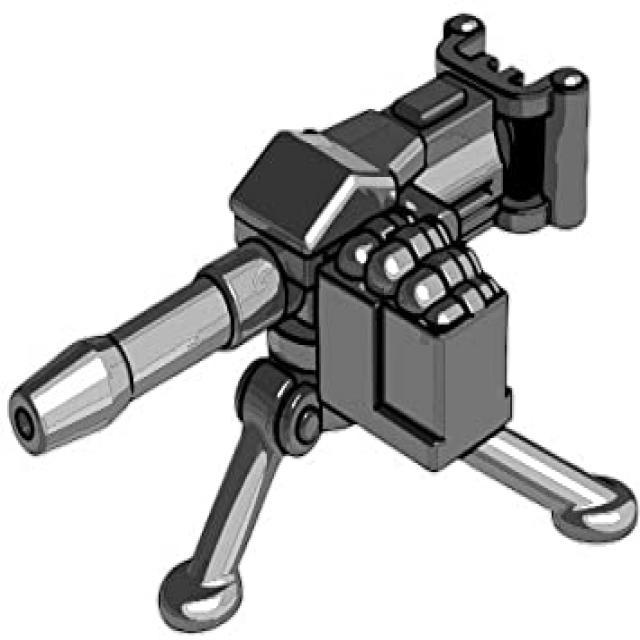machine gun: (1, 17, 629, 640)
